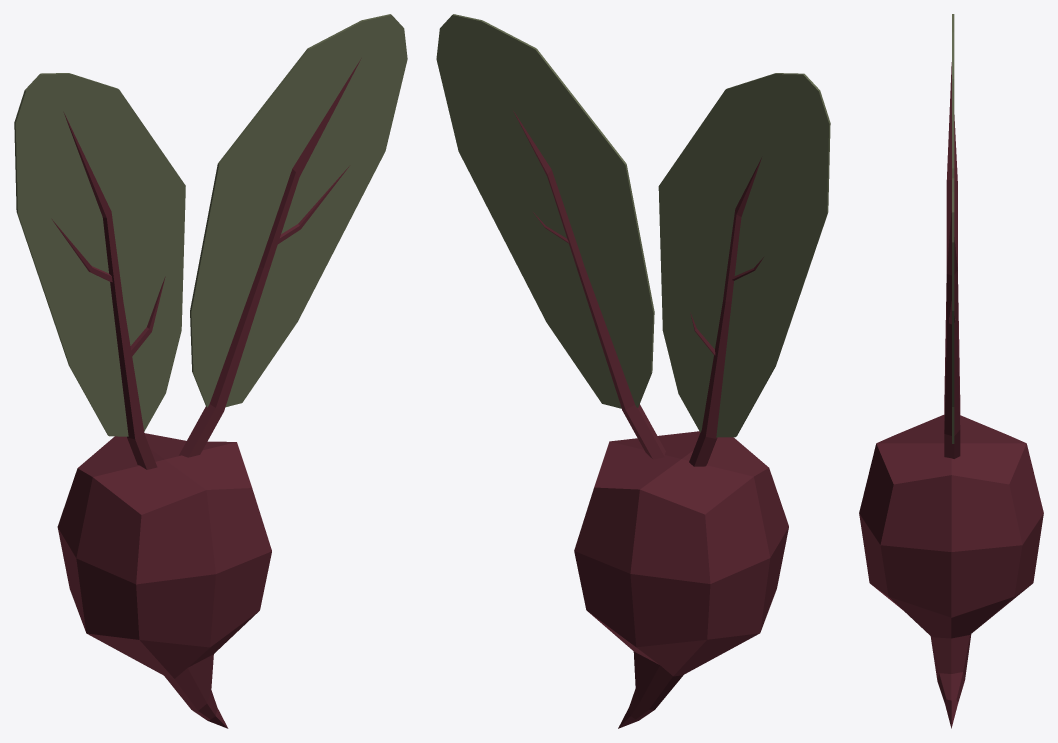
File: Beet_3.gltf
3 views of the same model, side by side, from view 1: azimuth 30°, elevation 25°; view 2: azimuth 150°, elevation 25°; view 3: azimuth 270°, elevation 25° (orthographic). The views are drawn at different scales.
Parts seen in each view (by area): view 1: Beet_3; view 2: Beet_3; view 3: Beet_3.
Boxes of the visible parts, x1,y1,x2,y2 form: Beet_3: (14, 14, 407, 728); Beet_3: (436, 14, 830, 728); Beet_3: (859, 14, 1043, 728).
Bounding box in the file's own units: 0.5093 × 0.8688 × 0.23.
